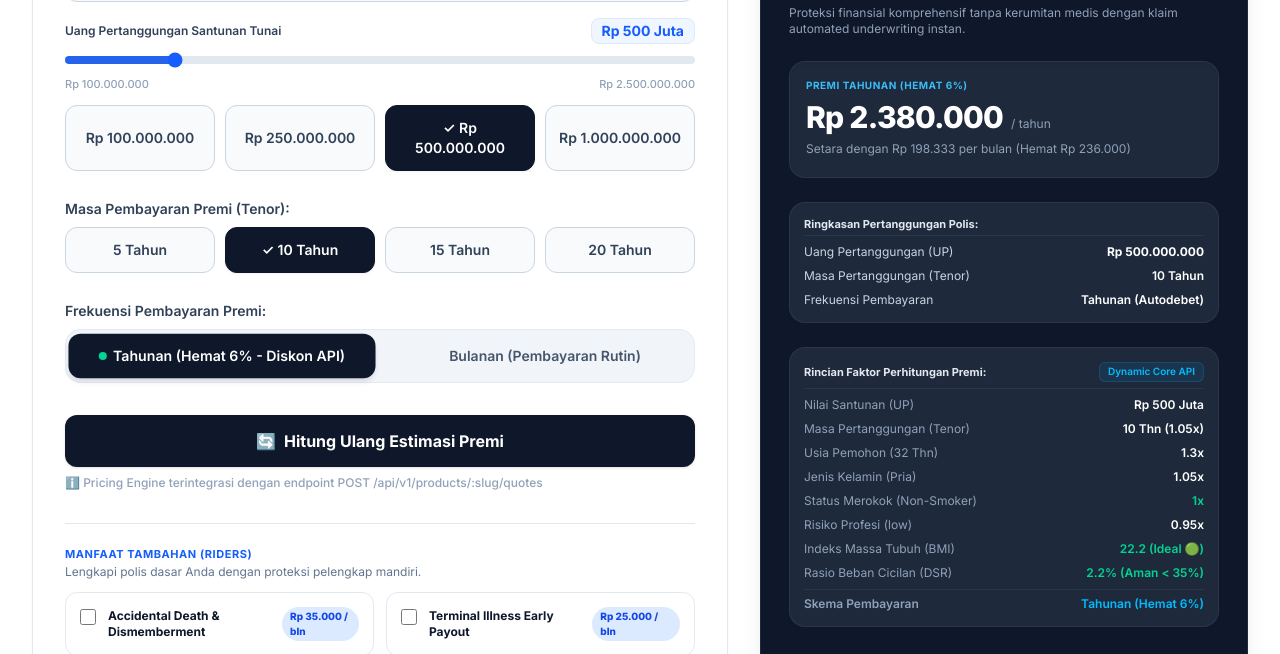
Test: SimulationPage & SimulationWorkbench › toggles payment frequency and displays annual discount savings
(page scrolled)
Click the button "Bulanan (Pembayaran Rutin)" at (538, 356), box [386,334,690,378]
(page scrolled)
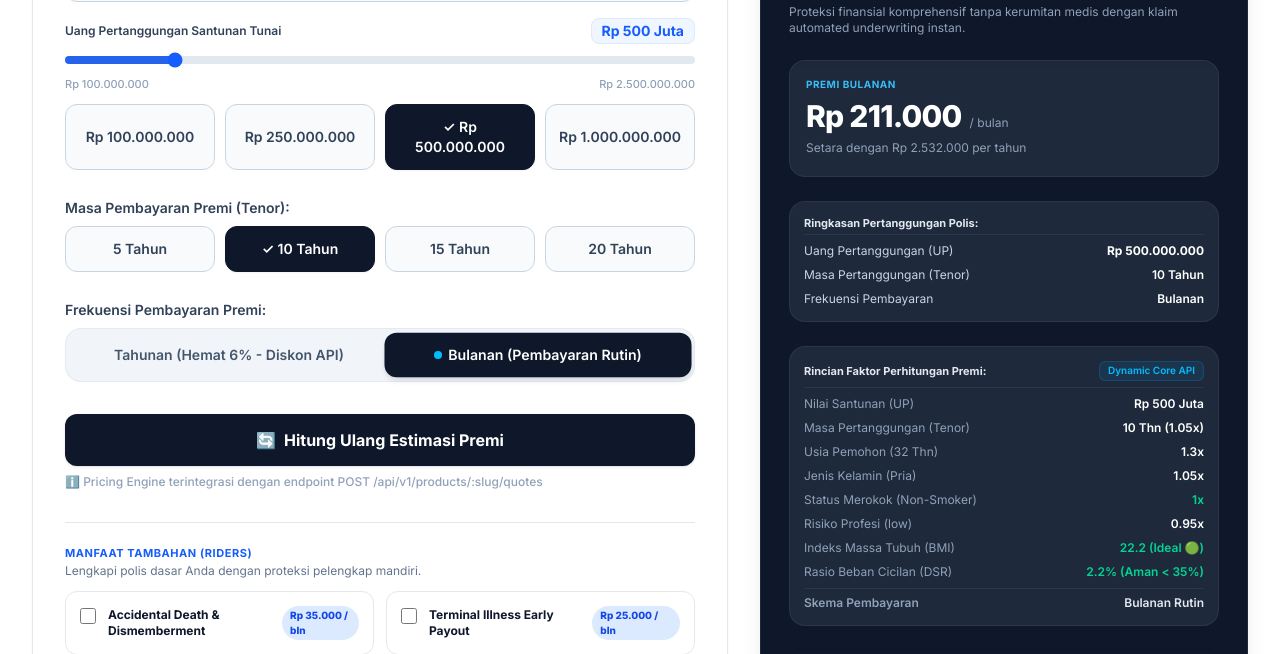
Expected: the text "PREMI BULANAN" is shown, [806,78,896,90]
